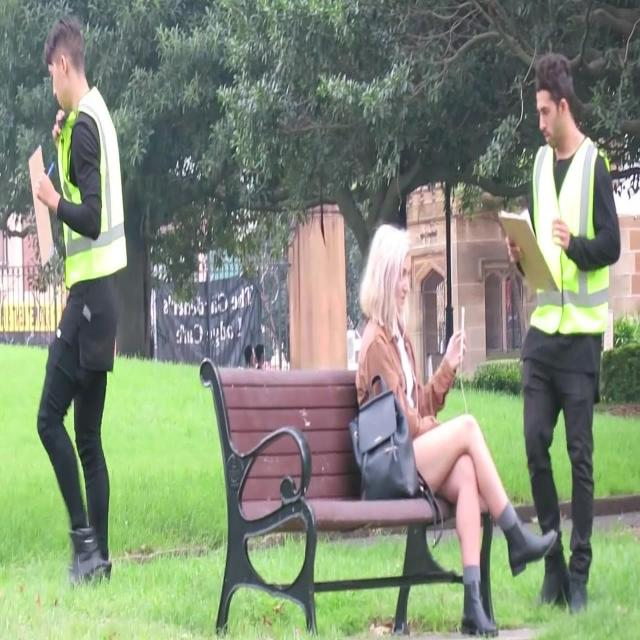Reflective-Jacket: (46, 92, 132, 302), (524, 136, 614, 336)
